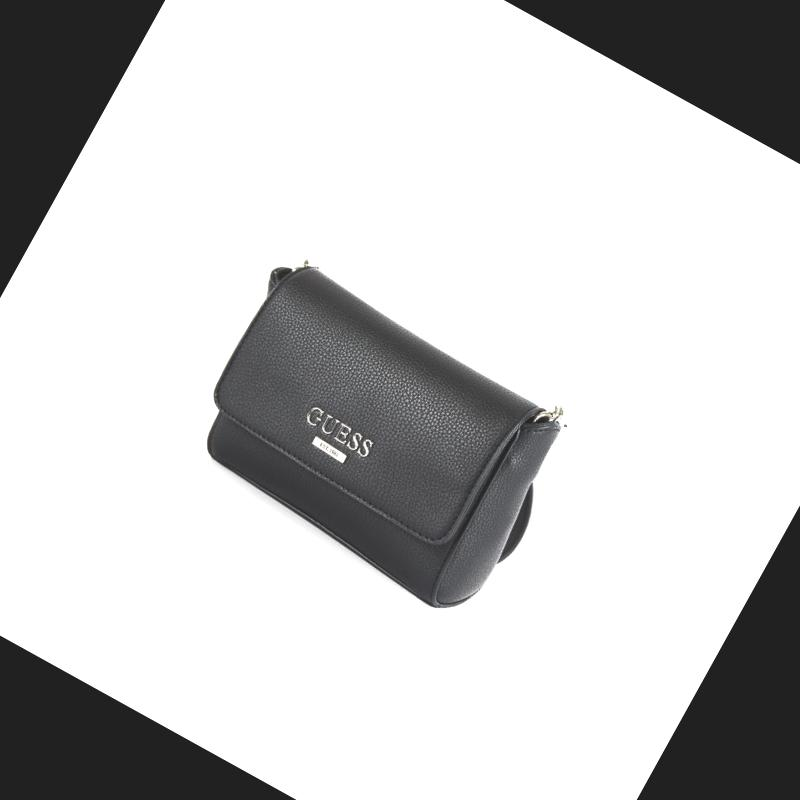GUESS: (300, 402, 376, 458)
